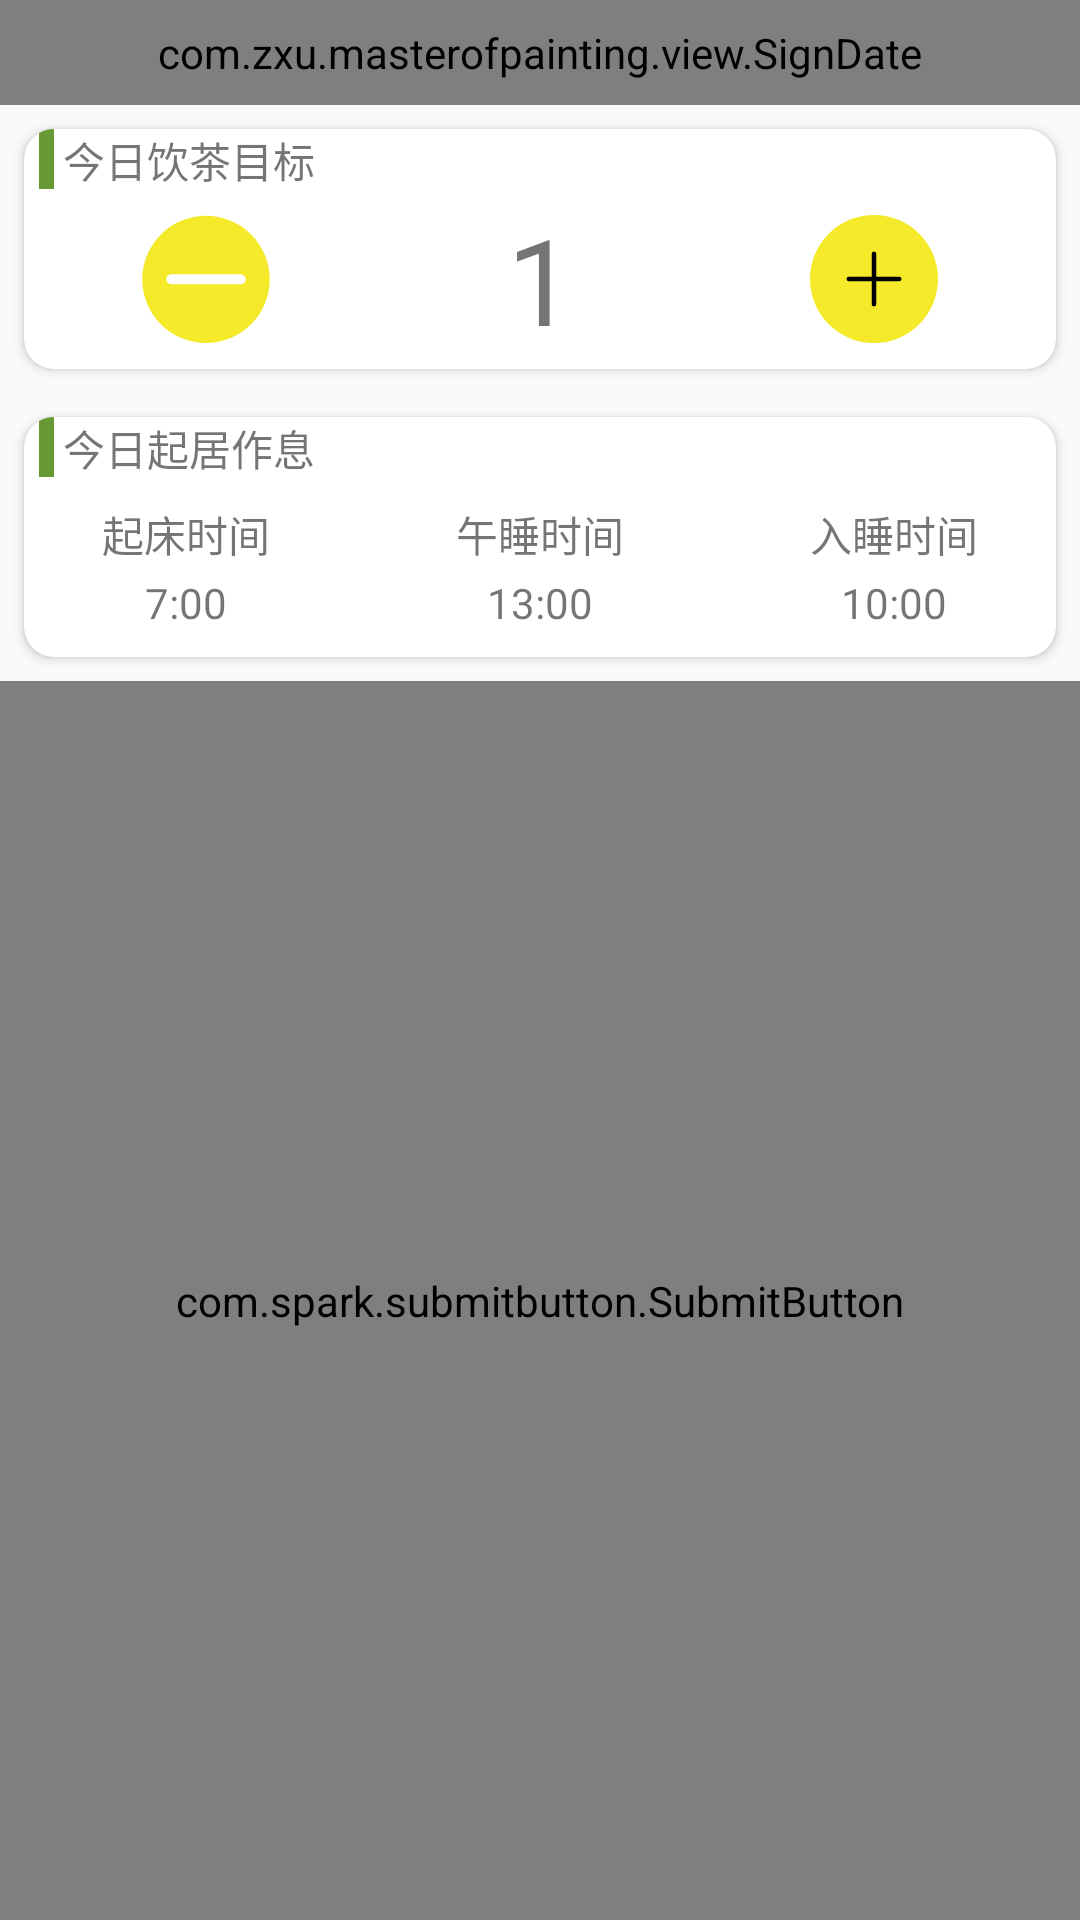

Where icons sit on this 1080px×1920px app screen, as (x1, y1, x2, y2):
add: (810, 215, 938, 343)
jian: (142, 215, 270, 343)
